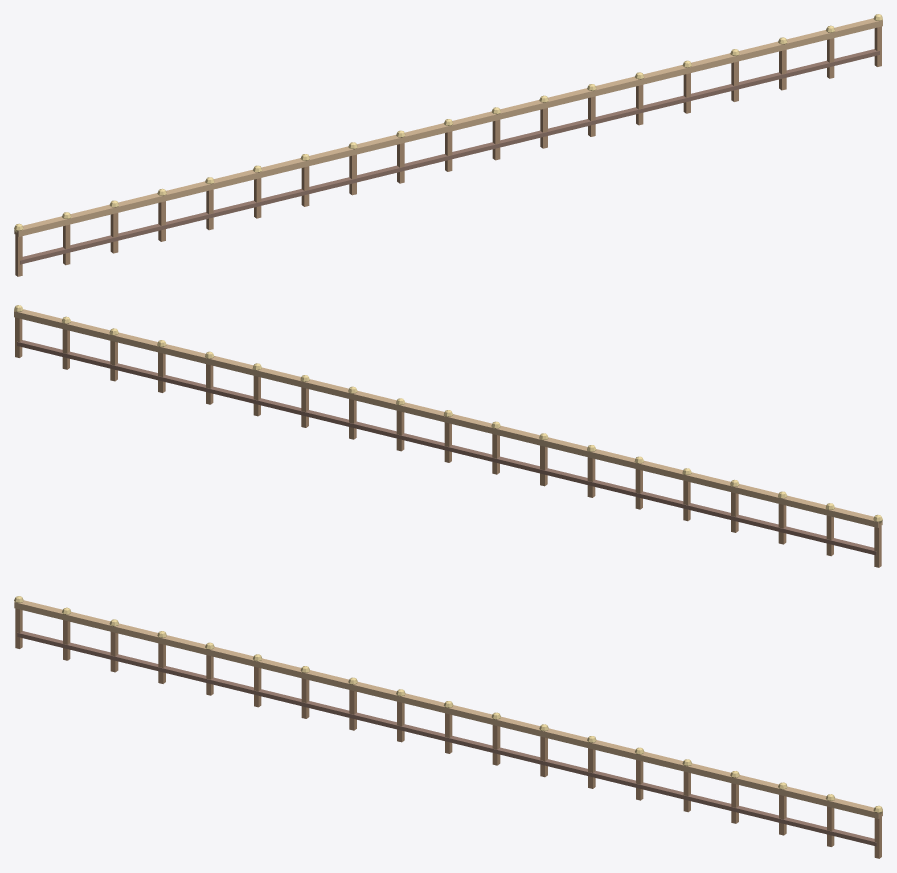
The model's file is barandilla.glb.
3 renders of one model, top to bottom at view 1: azimuth 30°, elevation 25°; view 2: azimuth 150°, elevation 25°; view 3: azimuth 330°, elevation 25°, orthographic.
Parts seen in each view (by area): view 1: barandilla; view 2: barandilla; view 3: barandilla.
Part boxes in pixels (x1,y1,x2,y2): barandilla: (14,14,882,276); barandilla: (14,305,882,567); barandilla: (14,596,882,858).
Size of the model in its own units: 18.17 by 1.03 by 0.1755.
